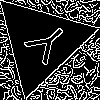Y: (16, 18, 73, 73)
